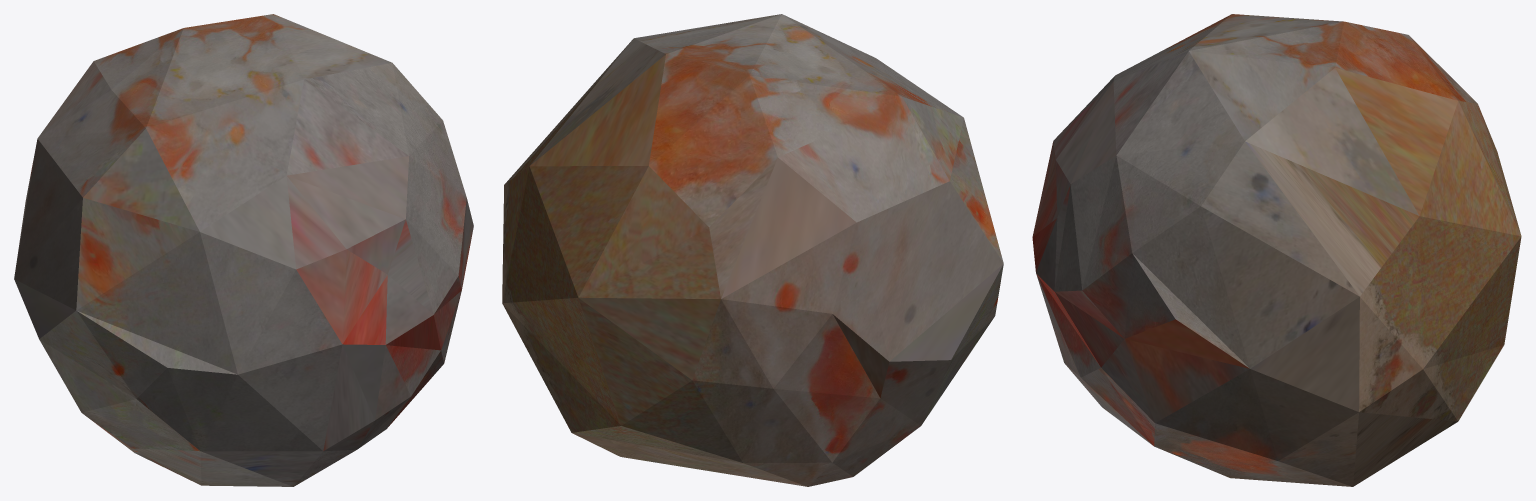
The model's file is asteroidLow.obj.
3 views of the same model, side by side, from view 1: azimuth 30°, elevation 25°; view 2: azimuth 150°, elevation 25°; view 3: azimuth 270°, elevation 25° (orthographic). The views are drawn at different scales.
Visible parts, largest first — view 1: file1.001; view 2: file1.001; view 3: file1.001.
Boxes of the visible parts, x1,y1,x2,y2 form: file1.001: [14, 14, 473, 486]; file1.001: [502, 14, 1003, 486]; file1.001: [1032, 14, 1521, 486].
Size of the model in its own units: 1.92 by 1.89 by 1.95.
1 material, 1 textured.
